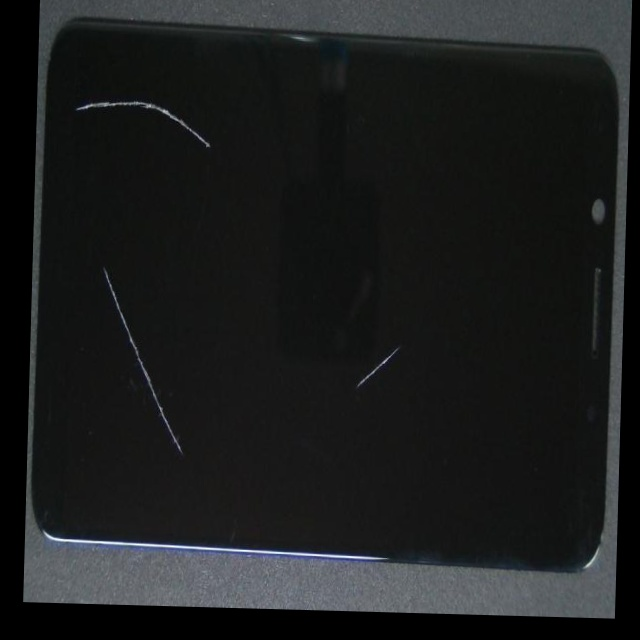scratch: (216, 163, 601, 527), (109, 68, 316, 234), (160, 326, 237, 608)
